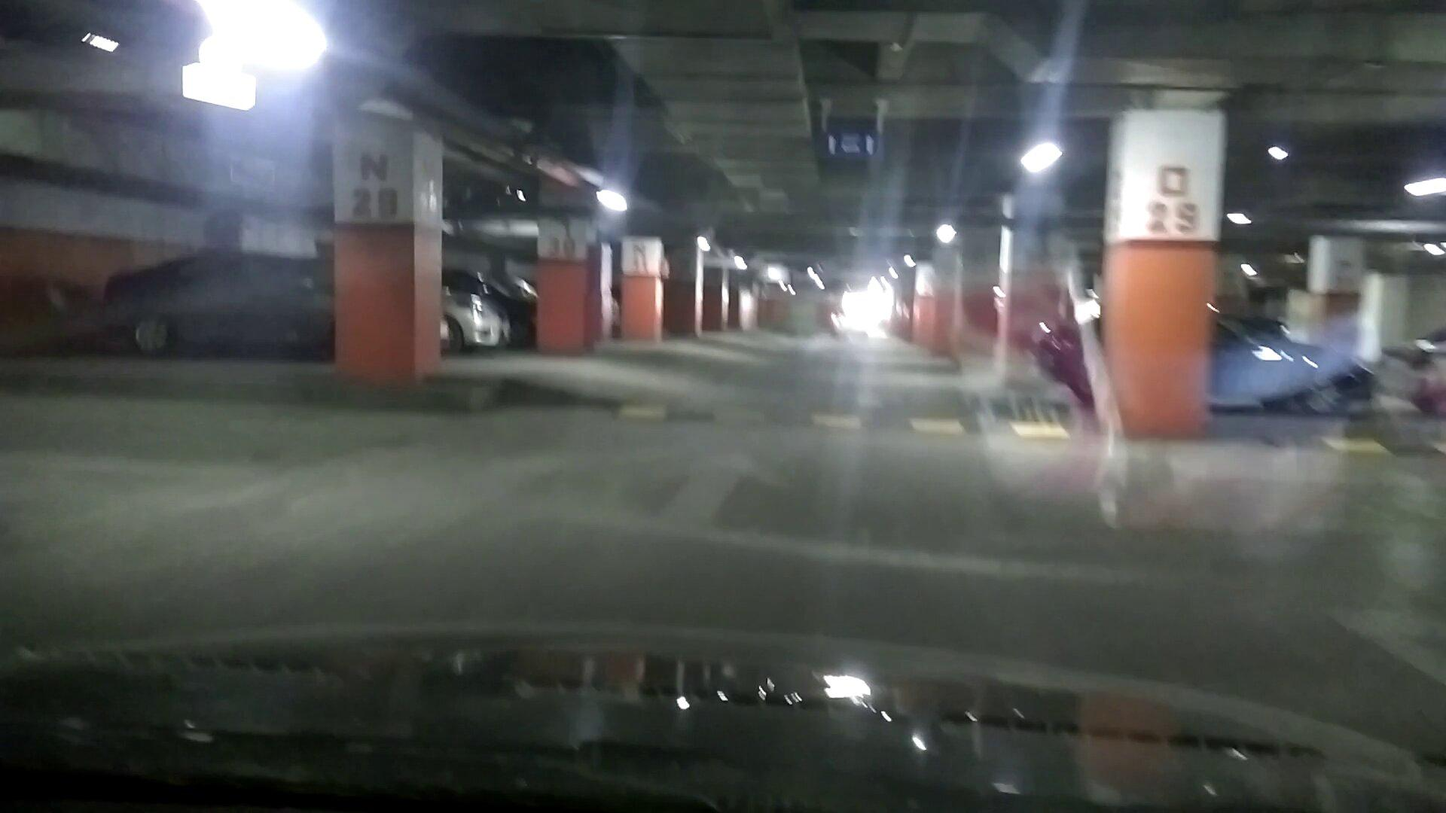Bump: (613, 401, 1071, 441)
